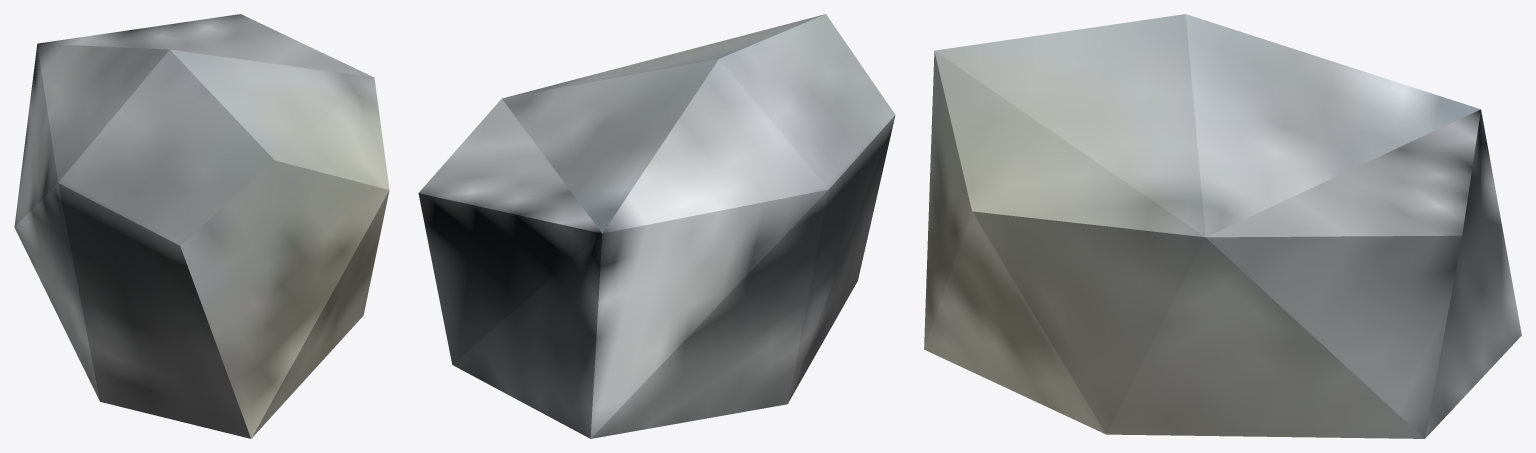
3 renders of one model, left to right at view 1: azimuth 30°, elevation 25°; view 2: azimuth 150°, elevation 25°; view 3: azimuth 270°, elevation 25°, orthographic. The views are drawn at different scales.
Size of the model in its own units: 0.0372 by 0.0367 by 0.0505.
1 material, 1 textured.
